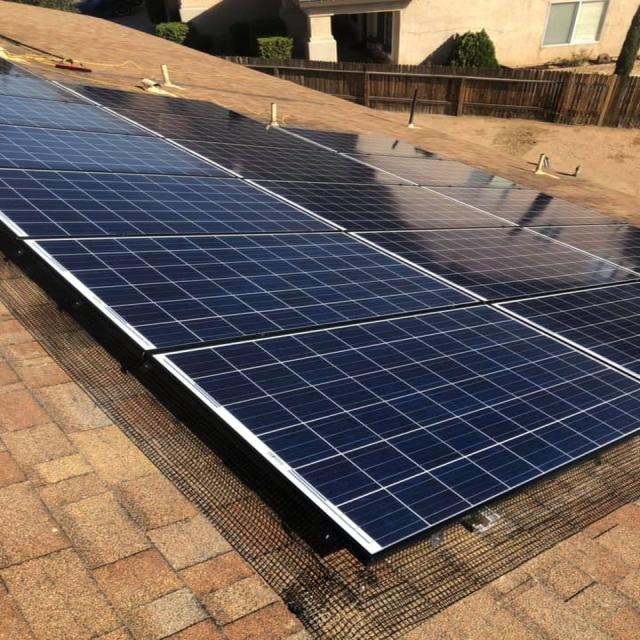clean-solar-panel: (0, 63, 638, 554)
